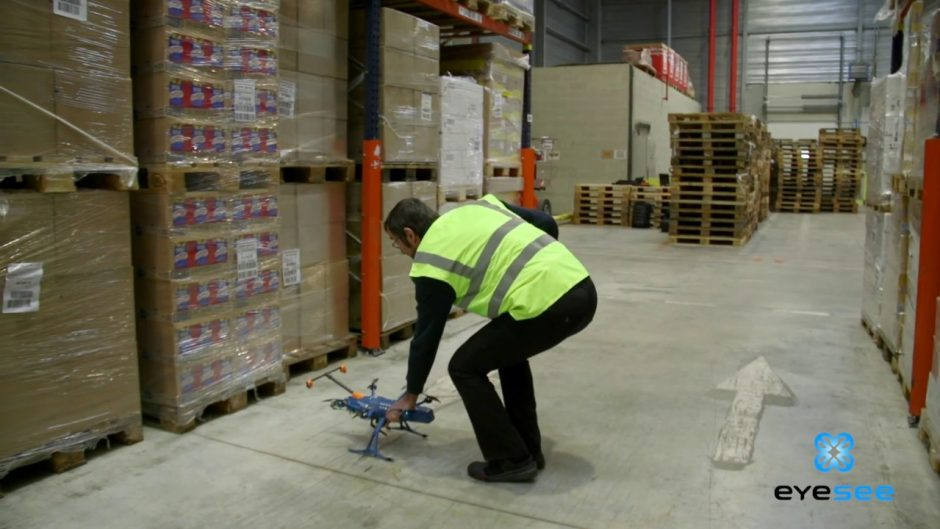drone: (305, 362, 448, 467)
person: (386, 184, 600, 489)
